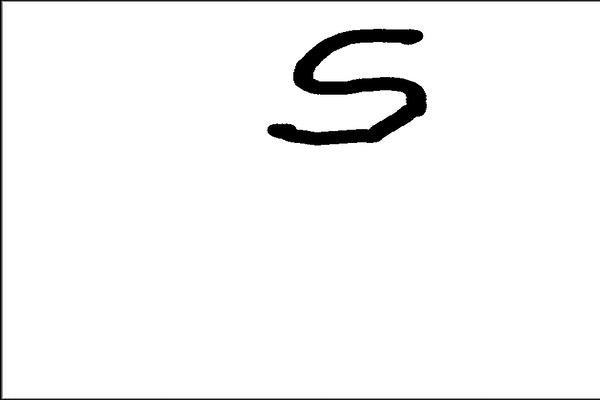S: (263, 23, 430, 150)
